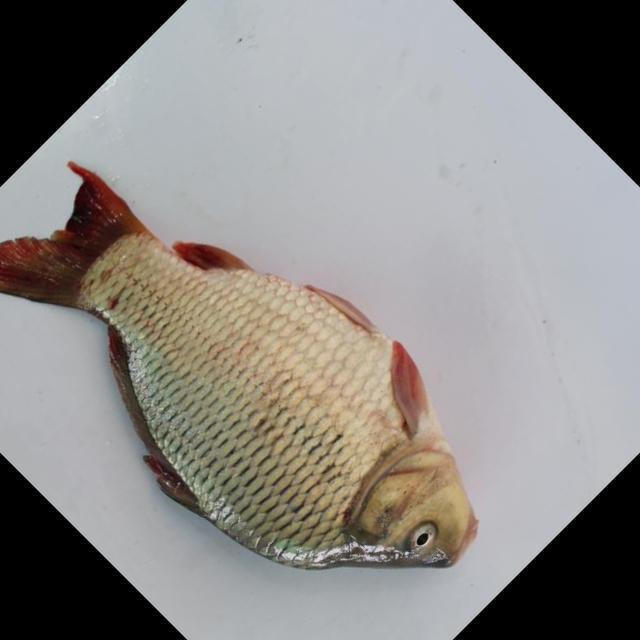CommonCarp: (3, 159, 513, 576)
